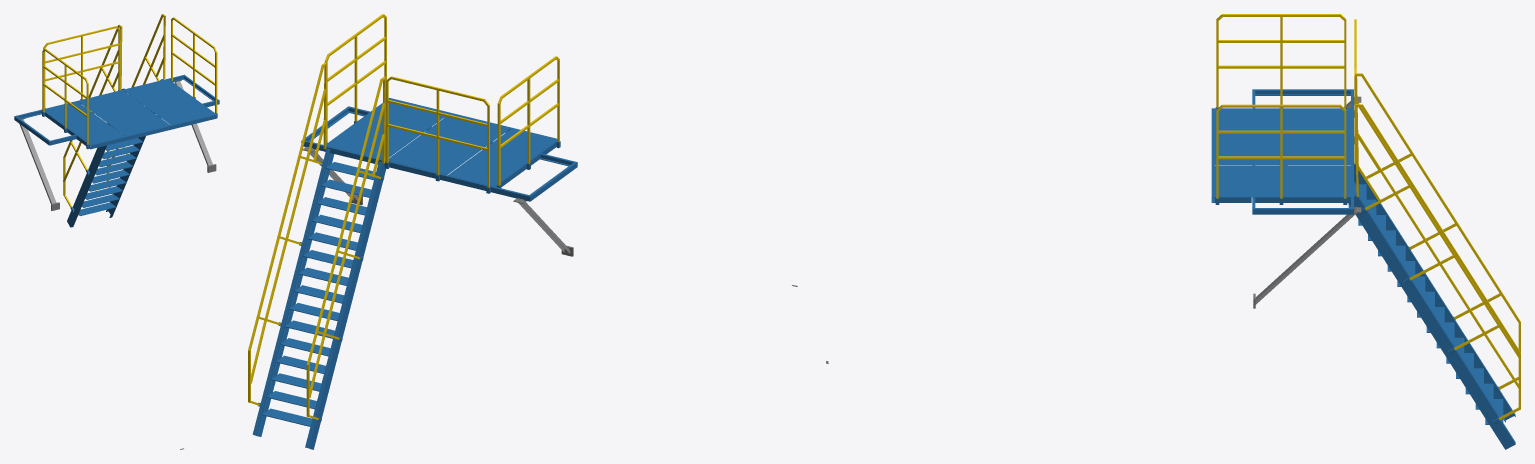
The model's file is Phase25_Stairs_1.fbx.
3 views of the same model, side by side, from view 1: azimuth 30°, elevation 25°; view 2: azimuth 150°, elevation 25°; view 3: azimuth 270°, elevation 25° (orthographic). The views are drawn at different scales.
Parts seen in each view (by area): view 1: RAL 5015 (×11), CPS_КаркасНесущий_Швеллер_ПолкаПараллельная_ГОСТ 8240-97:Бал (×7), 70:70:713241, Профили_гнутые_замкнутые_сварные_прямоугольные_ГОСТ_30245_20 (×2); view 2: CPS_КаркасНесущий_Швеллер_ПолкаПараллельная_ГОСТ 8240-97:Бал (×3), RAL 5015 (×2), 70:70:713241, Профили_гнутые_замкнутые_сварные_прямоугольные_ГОСТ_30245_20 (×2); view 3: RAL 5015 (×2), CPS_КаркасНесущий_Швеллер_ПолкаПараллельная_ГОСТ 8240-97:Бал (×4), 70:70:713241, Профили_гнутые_замкнутые_сварные_прямоугольные_ГОСТ_30245_20 (×2).
Boxes of the visible parts, x1=… form: RAL 5015 (×11): x1=78, y1=79, x2=215, y2=215; CPS_КаркасНесущий_Швеллер_ПолкаПараллельная_ГОСТ 8240-97:Бал (×7): x1=14, y1=74, x2=219, y2=227; 70:70:713241: x1=44, y1=101, x2=124, y2=144; Профили_гнутые_замкнутые_сварные_прямоугольные_ГОСТ_30245_20 (×2): x1=63, y1=14, x2=162, y2=157; CPS_КаркасНесущий_Швеллер_ПолкаПараллельная_ГОСТ 8240-97:Бал (×3): x1=252, y1=140, x2=531, y2=449; RAL 5015 (×2): x1=326, y1=98, x2=510, y2=175; 70:70:713241: x1=447, y1=128, x2=557, y2=186; Профили_гнутые_замкнутые_сварные_прямоугольные_ГОСТ_30245_20 (×2): x1=248, y1=65, x2=382, y2=364; RAL 5015 (×2): x1=1213, y1=133, x2=1351, y2=197; CPS_КаркасНесущий_Швеллер_ПолкаПараллельная_ГОСТ 8240-97:Бал (×4): x1=1253, y1=166, x2=1515, y2=449; 70:70:713241: x1=1213, y1=108, x2=1351, y2=132; Профили_гнутые_замкнутые_сварные_прямоугольные_ГОСТ_30245_20 (×2): x1=1361, y1=73, x2=1520, y2=354.
Bounding box in the file's own units: 4137 × 9238 × 5526.
